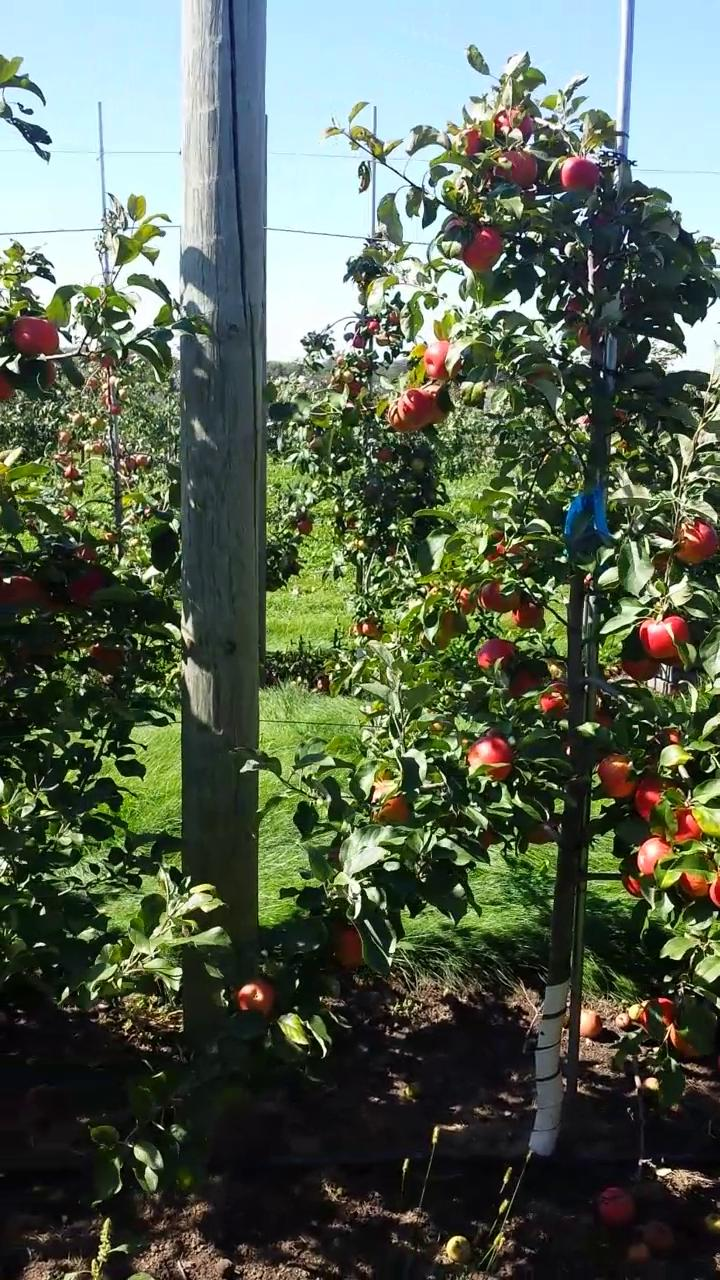Apple: (466, 735, 515, 782), (641, 614, 691, 659), (12, 316, 61, 357), (369, 781, 411, 828), (463, 226, 505, 272), (597, 750, 635, 800), (675, 522, 716, 566), (434, 607, 471, 653), (632, 779, 673, 819), (66, 566, 105, 605), (635, 837, 677, 873), (671, 805, 711, 842), (478, 581, 522, 614), (500, 152, 537, 191), (396, 387, 430, 428), (475, 637, 515, 671), (559, 157, 601, 189), (0, 575, 43, 606), (510, 597, 547, 632), (493, 109, 531, 141), (622, 654, 666, 681), (238, 979, 275, 1011), (422, 339, 450, 381), (642, 997, 676, 1030), (336, 925, 364, 965), (668, 1021, 700, 1055), (540, 680, 567, 717), (423, 383, 446, 426), (505, 668, 544, 693), (386, 396, 409, 434), (619, 869, 646, 899), (484, 532, 507, 566), (454, 584, 479, 615), (676, 875, 707, 896), (90, 643, 119, 663), (465, 127, 484, 156), (577, 322, 594, 351), (0, 375, 15, 401), (707, 874, 719, 906), (528, 824, 550, 841), (44, 356, 56, 385), (662, 725, 680, 744), (591, 711, 611, 726), (479, 828, 494, 847), (566, 296, 581, 311)
